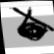not correct: (6, 4, 54, 44)
